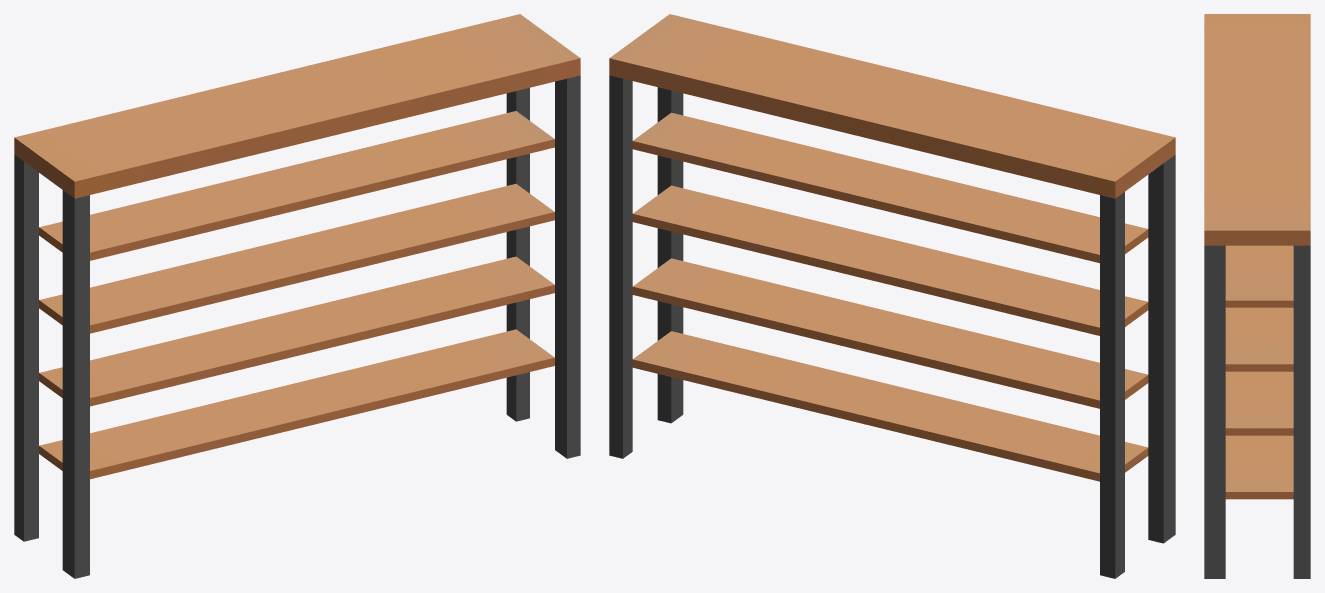
File: kedungdo.fbx
3 views of the same model, side by side, from view 1: azimuth 30°, elevation 25°; view 2: azimuth 150°, elevation 25°; view 3: azimuth 270°, elevation 25° (orthographic). The views are drawn at different scales.
Visible parts, largest first — view 1: kedungdo; view 2: kedungdo; view 3: kedungdo.
Part boxes in pixels (x1=…): kedungdo: x1=14, y1=14, x2=580, y2=578; kedungdo: x1=609, y1=14, x2=1175, y2=578; kedungdo: x1=1204, y1=14, x2=1310, y2=578.
Bounding box in the file's own units: 384 × 288 × 79.49.
1 material, 1 textured.
